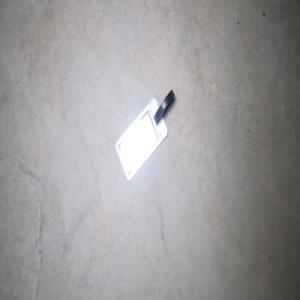LuggageTag: (114, 88, 175, 182)
